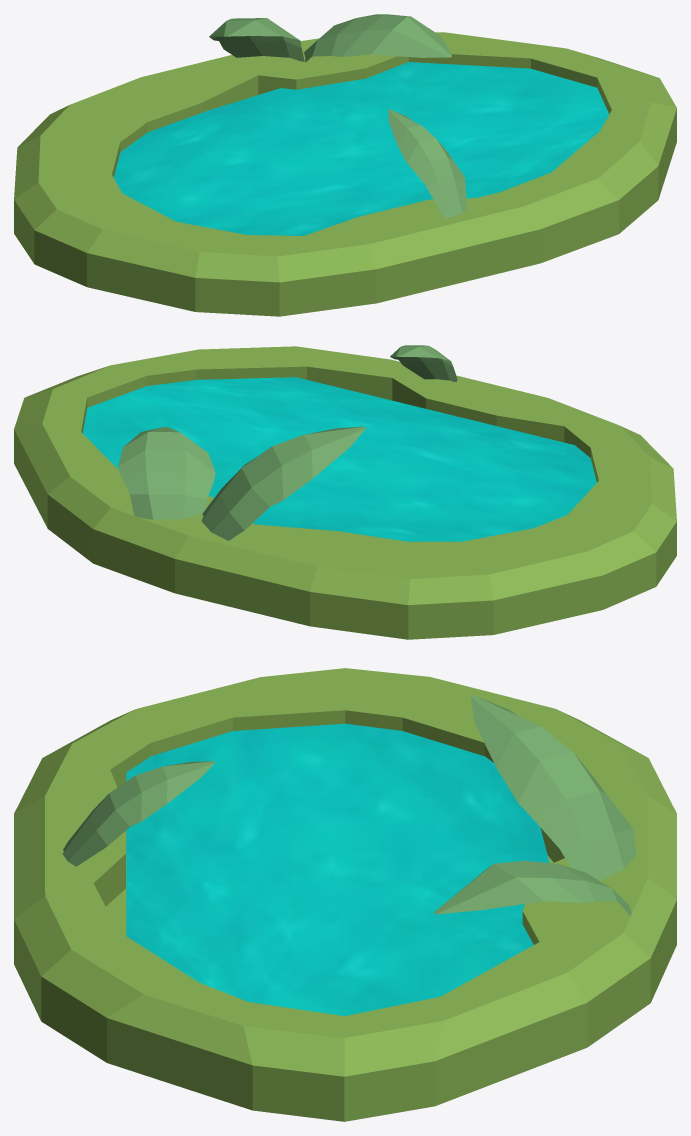
File: water2.glb
The picture shows the model from 3 angles, top to bottom: view 1: azimuth 30°, elevation 25°; view 2: azimuth 150°, elevation 25°; view 3: azimuth 270°, elevation 25°; orthographic projection. The views are drawn at different scales.
Parts seen in each view (by area): view 1: Cube.151, Plane.091, Plane.092, Plane.094, Plane.093; view 2: Cube.151, Plane.091, Plane.093, Plane.092, Plane.094; view 3: Cube.151, Plane.091, Plane.093, Plane.092, Plane.094.
Part boxes in pixels (x1,y1,x2,y2): Cube.151: (14, 32, 676, 316); Plane.091: (114, 62, 609, 235); Plane.092: (304, 14, 451, 62); Plane.094: (388, 109, 467, 218); Plane.093: (209, 18, 304, 61); Cube.151: (14, 346, 676, 639); Plane.091: (82, 377, 596, 541); Plane.093: (201, 426, 365, 540); Plane.092: (118, 427, 215, 519); Plane.094: (390, 345, 457, 382); Cube.151: (14, 668, 676, 1121); Plane.091: (126, 723, 549, 1015); Plane.093: (470, 695, 636, 880); Plane.092: (433, 860, 631, 915); Plane.094: (63, 761, 214, 866).
Size of the model in its own units: 5.09 by 1.05 by 3.54.
Materials: 5 (1 with a texture image).
